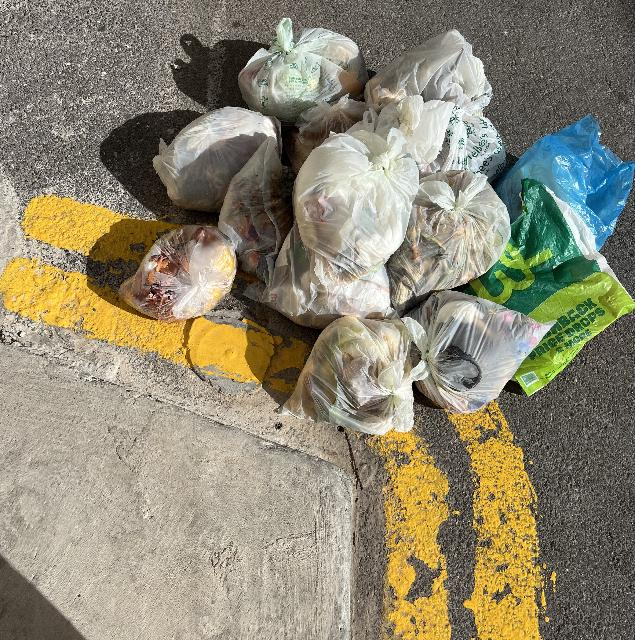Organic -White-: (293, 130, 419, 279), (402, 290, 554, 413), (387, 170, 510, 310), (279, 317, 418, 435), (244, 227, 392, 328), (238, 18, 368, 124), (153, 107, 282, 211), (119, 225, 236, 323), (218, 139, 293, 274), (364, 29, 491, 107), (347, 95, 454, 173), (283, 95, 367, 173), (437, 108, 506, 181)
Other: (466, 179, 635, 395), (495, 115, 635, 250)
